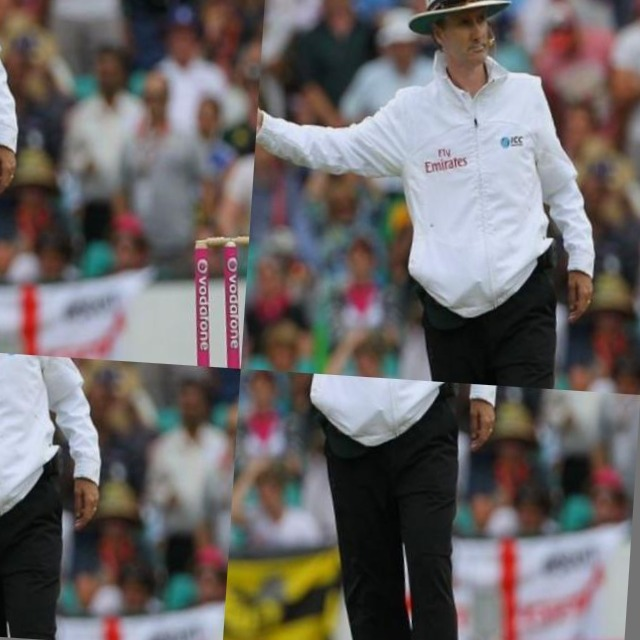No_Action: (247, 0, 365, 279)
No_Ball: (222, 369, 559, 640)
Out: (0, 0, 50, 103)
Six: (0, 350, 230, 640)
